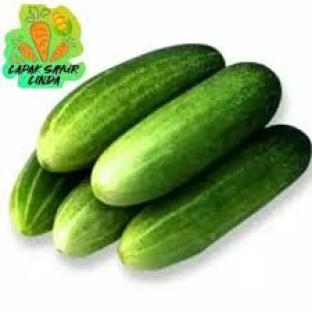Cucumber: (92, 63, 281, 206), (120, 127, 310, 269), (38, 45, 224, 171), (53, 179, 138, 256), (10, 153, 84, 235)
